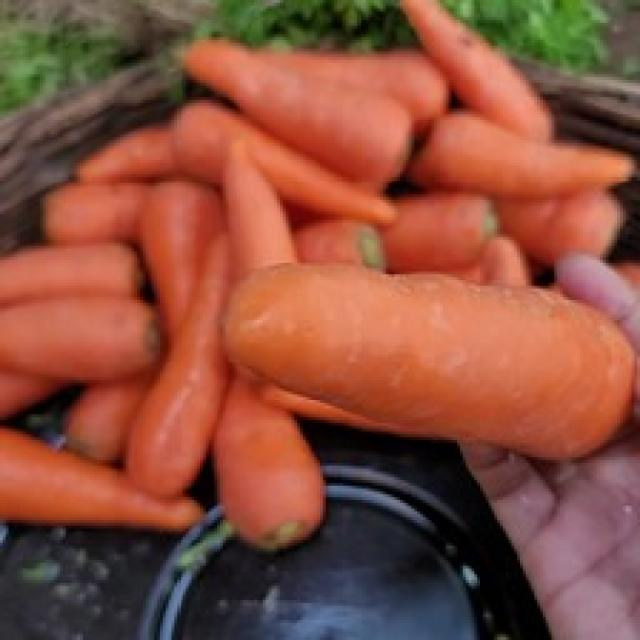Fresh_Carrot: (86, 26, 604, 426)
